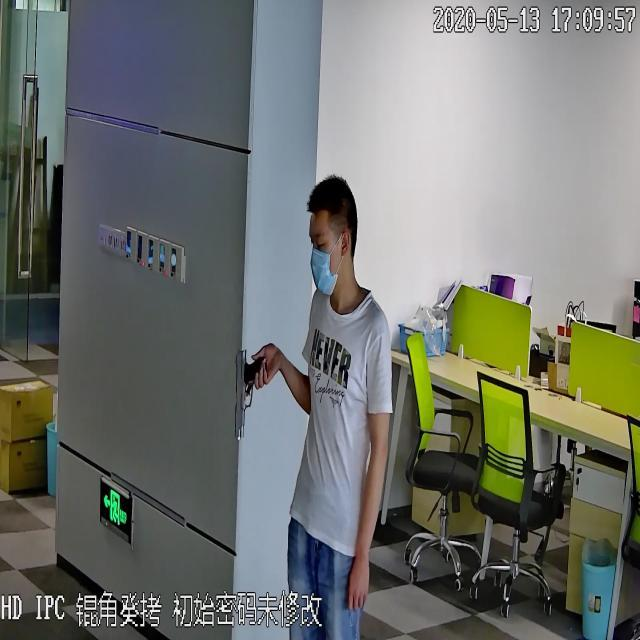gun: (234, 341, 270, 445)
